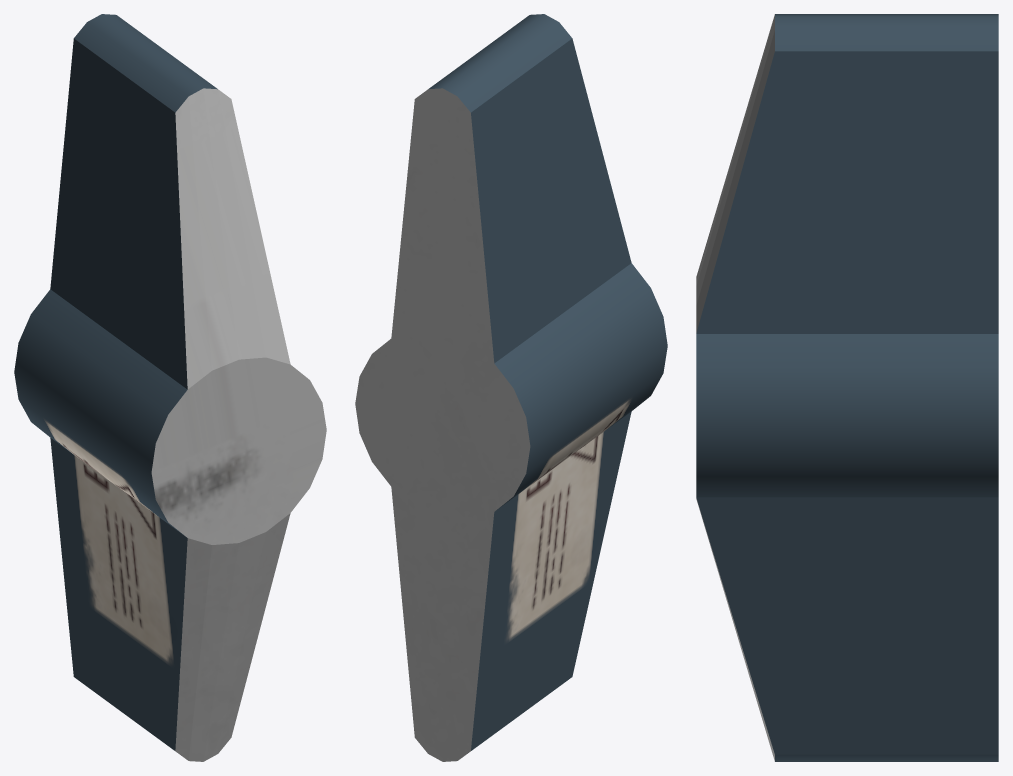
The model's file is Fuzebox_03_Button.FBX.
3 renders of one model, left to right at view 1: azimuth 30°, elevation 25°; view 2: azimuth 150°, elevation 25°; view 3: azimuth 270°, elevation 25°, orthographic. The views are drawn at different scales.
Parts seen in each view (by area): view 1: Fuzebox_03_Button; view 2: Fuzebox_03_Button; view 3: Fuzebox_03_Button.
Part boxes in pixels (<box>): Fuzebox_03_Button: <box>14,14,326,761</box>; Fuzebox_03_Button: <box>355,14,667,761</box>; Fuzebox_03_Button: <box>696,14,998,761</box>.
Bounding box in the file's own units: 2 × 2.71 × 7.35.
